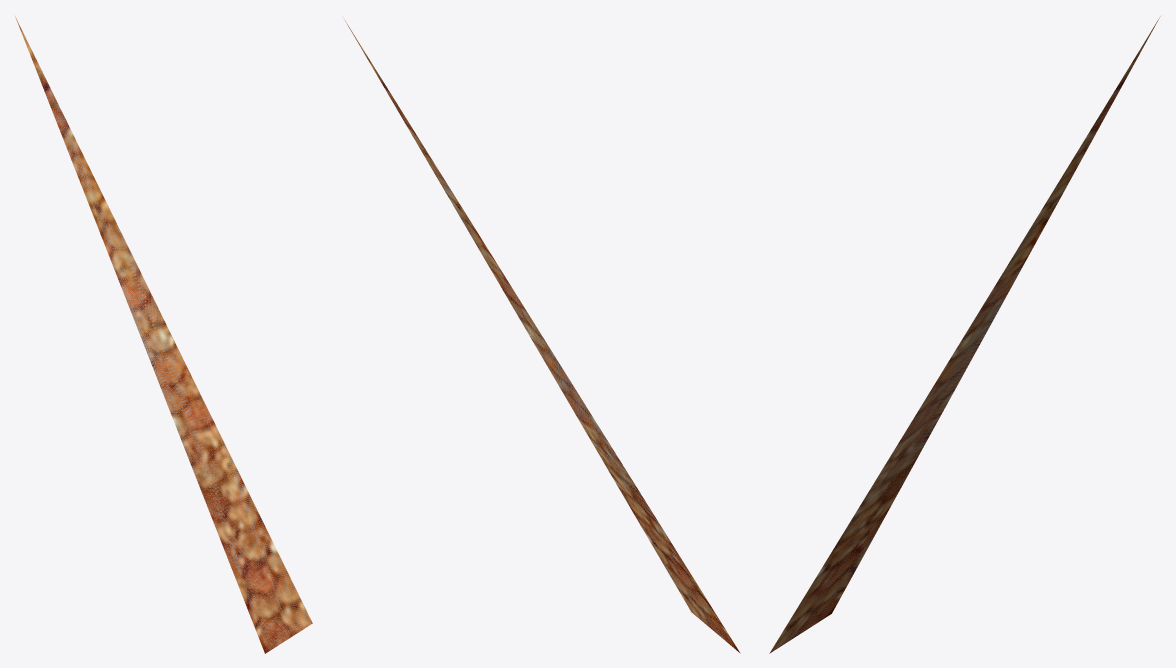
The model's file is 西庸城堡597.dae.
The picture shows the model from 3 angles, left to right: view 1: azimuth 90°, elevation 25°; view 2: azimuth 150°, elevation 25°; view 3: azimuth 270°, elevation 25°; orthographic projection. The views are drawn at different scales.
Visible parts, largest first — view 1: SketchUp; view 2: SketchUp; view 3: SketchUp.
Boxes of the visible parts, x1,y1,x2,y2 form: SketchUp: (15, 16, 312, 653); SketchUp: (344, 19, 740, 653); SketchUp: (769, 16, 1160, 653).
Size of the model in its own units: 42.45 by 58.33 by 118.
